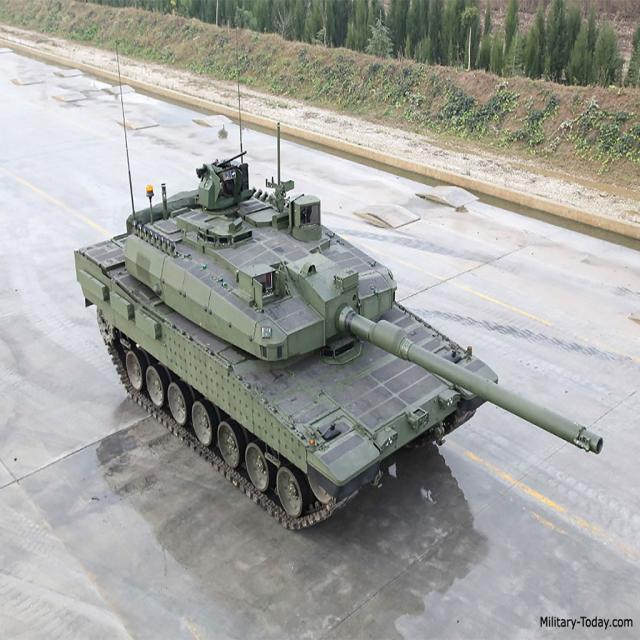Tank: (47, 113, 625, 568)
